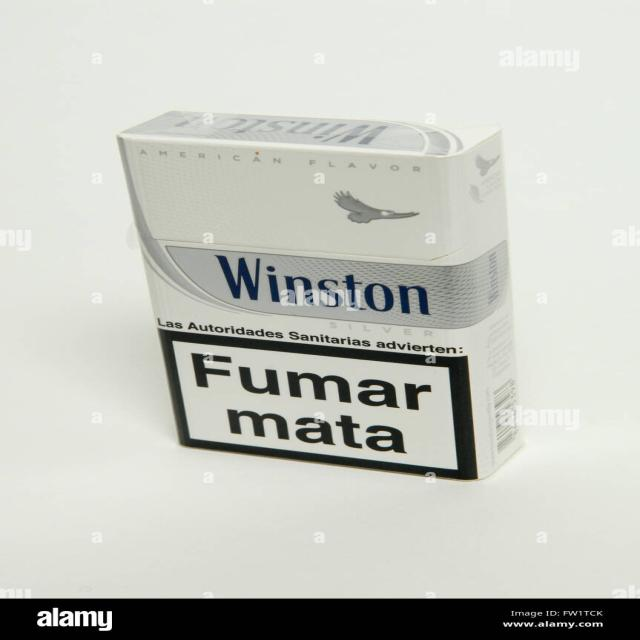winston: (111, 103, 549, 486)
